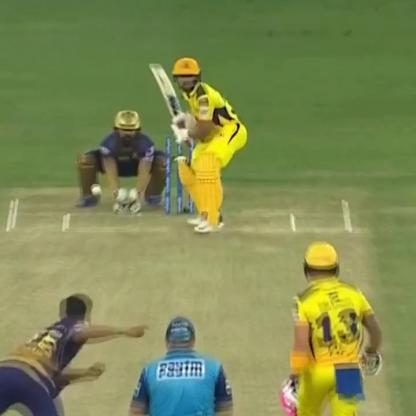ball: (88, 180, 106, 198)
bat: (150, 54, 202, 144)
pitch: (5, 181, 376, 416)
